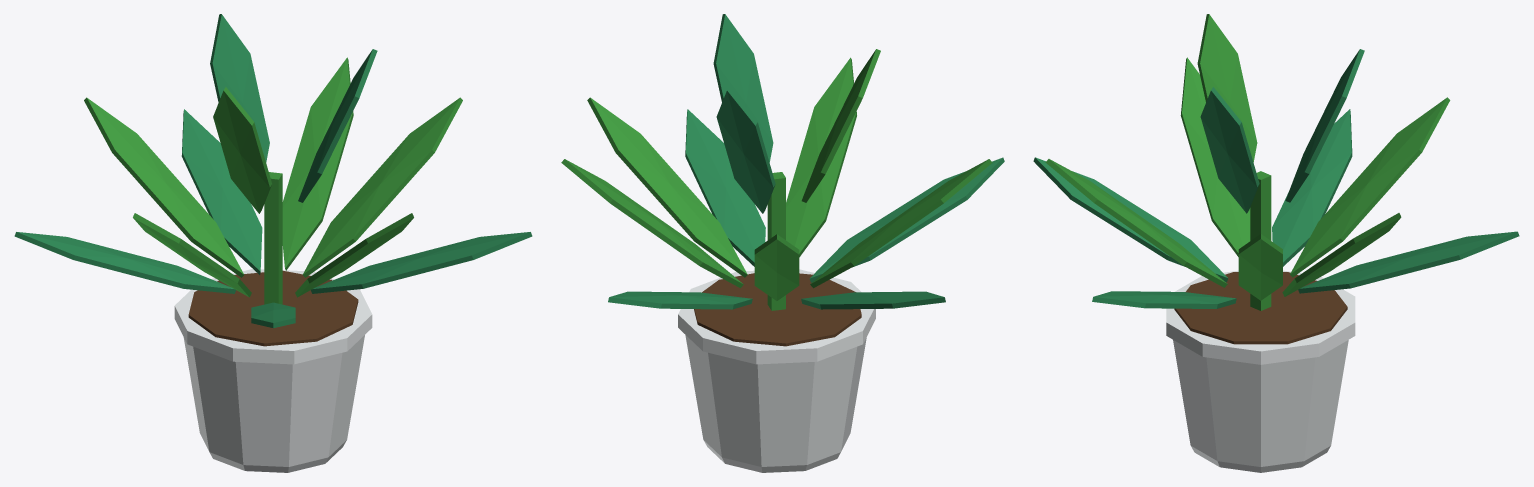
File: bigPlant.glb
3 views of the same model, side by side, from view 1: azimuth 30°, elevation 25°; view 2: azimuth 150°, elevation 25°; view 3: azimuth 270°, elevation 25° (orthographic).
Visible parts, largest first — view 1: bigPlant-m; view 2: bigPlant-m; view 3: bigPlant-m.
Part boxes in pixels (box(x1,y1,x2,y2)): bigPlant-m: box(14, 14, 532, 472); bigPlant-m: box(561, 14, 1004, 472); bigPlant-m: box(1033, 14, 1519, 472).
Size of the model in its own units: 2.2 by 2.06 by 2.3.
